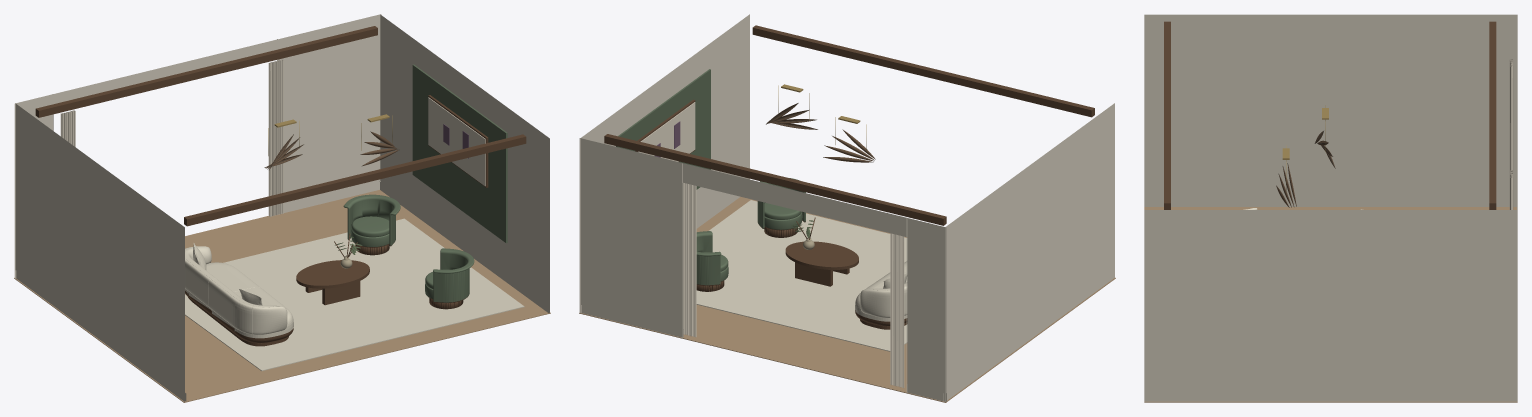
Rendered from great-3.glb.
3 renders of one model, left to right at view 1: azimuth 30°, elevation 25°; view 2: azimuth 150°, elevation 25°; view 3: azimuth 270°, elevation 25°, orthographic. The views are drawn at different scales.
Parts seen in each view (by area): view 1: DESIGN | great removable wall finish, DESIGN | Great room primary ground, DESIGN | great floor finish, DESIGN | Garden salon fabric wall field, DESIGN | Great room sofa facing conversation, DESIGN | Garden salon perimeter timber, DESIGN | Garden salon perimeter timber.001, DESIGN | Required Bellustar swivel chair two, DESIGN | Textile artwork.002, DESIGN | Required Bellustar swivel chair one, DESIGN | Great room soft window edge.001, DESIGN | Great room conversation table top (+3 smaller); view 2: DESIGN | great removable wall finish, DESIGN | Great room primary ground, DESIGN | great floor finish, DESIGN | Garden salon perimeter timber.001, DESIGN | Garden salon perimeter timber, DESIGN | Garden salon fabric wall field, DESIGN | Great room soft window edge, DESIGN | Great room soft window edge.001, DESIGN | Great room sofa facing conversation, DESIGN | Great room conversation table top, DESIGN | Required Bellustar swivel chair two, DESIGN | Textile artwork.002 (+4 smaller); view 3: DESIGN | great removable wall finish, DESIGN | great floor finish, DESIGN | Garden salon perimeter timber.001, DESIGN | Garden salon perimeter timber, DESIGN | Great room soft window edge, DESIGN | Required Flou pendant 2.
Part boxes in pixels (left/top/right/bottom): DESIGN | great removable wall finish: left=14, top=14, right=549, bottom=401; DESIGN | Great room primary ground: left=185, top=218, right=524, bottom=371; DESIGN | great floor finish: left=14, top=190, right=550, bottom=402; DESIGN | Garden salon fabric wall field: left=412, top=64, right=507, bottom=243; DESIGN | Great room sofa facing conversation: left=185, top=243, right=293, bottom=346; DESIGN | Garden salon perimeter timber: left=184, top=134, right=526, bottom=226; DESIGN | Garden salon perimeter timber.001: left=35, top=26, right=377, bottom=117; DESIGN | Required Bellustar swivel chair two: left=343, top=194, right=400, bottom=255; DESIGN | Textile artwork.002: left=428, top=97, right=485, bottom=186; DESIGN | Required Bellustar swivel chair one: left=425, top=248, right=474, bottom=309; DESIGN | Great room soft window edge.001: left=268, top=59, right=283, bottom=216; DESIGN | Great room conversation table top: left=296, top=260, right=369, bottom=288; DESIGN | great removable wall finish: left=579, top=14, right=1114, bottom=401; DESIGN | Great room primary ground: left=696, top=200, right=907, bottom=351; DESIGN | great floor finish: left=579, top=196, right=1115, bottom=402; DESIGN | Garden salon perimeter timber.001: left=604, top=134, right=946, bottom=225; DESIGN | Garden salon perimeter timber: left=752, top=25, right=1094, bottom=117; DESIGN | Garden salon fabric wall field: left=616, top=69, right=710, bottom=189; DESIGN | Great room soft window edge: left=890, top=233, right=904, bottom=387; DESIGN | Great room soft window edge.001: left=683, top=182, right=696, bottom=337; DESIGN | Great room sofa facing conversation: left=855, top=261, right=907, bottom=329; DESIGN | Great room conversation table top: left=785, top=241, right=858, bottom=269; DESIGN | Required Bellustar swivel chair two: left=696, top=231, right=728, bottom=291; DESIGN | Textile artwork.002: left=638, top=102, right=695, bottom=161; DESIGN | great removable wall finish: left=1144, top=14, right=1517, bottom=401; DESIGN | great floor finish: left=1144, top=207, right=1517, bottom=402; DESIGN | Garden salon perimeter timber.001: left=1489, top=21, right=1496, bottom=209; DESIGN | Garden salon perimeter timber: left=1164, top=21, right=1170, bottom=209; DESIGN | Great room soft window edge: left=1509, top=59, right=1513, bottom=170; DESIGN | Required Flou pendant 2: left=1276, top=163, right=1296, bottom=207.
Size of the model in its own units: 6 by 2.74 by 4.82.
